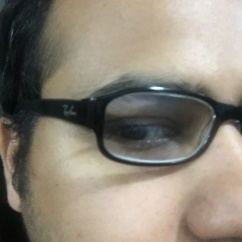glasses: (16, 97, 242, 158)
